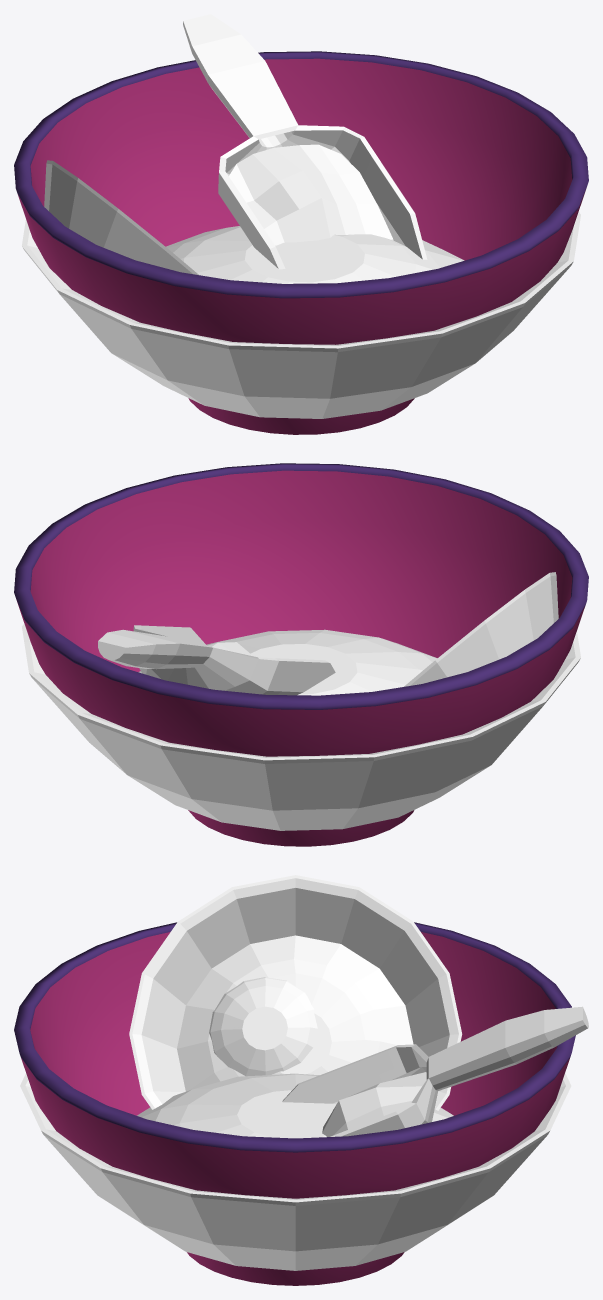
File: Mixing Bowl.fbx
3 views of the same model, one above another, from view 1: azimuth 30°, elevation 25°; view 2: azimuth 150°, elevation 25°; view 3: azimuth 270°, elevation 25° (orthographic). The views are drawn at different scales.
Parts seen in each view (by area): view 1: MixingBowl, Cylinder, Cube, Cube_001, Cylinder_001, Cylinder_1; view 2: MixingBowl, Cylinder, Cube, Cylinder_001, Cylinder_1; view 3: MixingBowl, Cylinder, Cylinder_1, Cylinder_001_1, Cube, Cylinder_001, Cylinder_002, Cube_001.
Boxes of the visible parts, bbox=[...] form: MixingBowl: bbox=[14, 51, 588, 434]; Cylinder: bbox=[22, 212, 580, 418]; Cube: bbox=[183, 14, 427, 269]; Cube_001: bbox=[229, 144, 393, 245]; Cylinder_001: bbox=[166, 226, 464, 283]; Cylinder_1: bbox=[44, 160, 198, 274]; MixingBowl: bbox=[14, 463, 588, 846]; Cylinder: bbox=[22, 623, 580, 830]; Cube: bbox=[98, 625, 335, 695]; Cylinder_001: bbox=[138, 629, 437, 695]; Cylinder_1: bbox=[404, 572, 558, 686]; MixingBowl: bbox=[14, 922, 575, 1285]; Cylinder: bbox=[20, 1073, 571, 1270]; Cylinder_1: bbox=[129, 875, 462, 1110]; Cylinder_001_1: bbox=[177, 935, 413, 1091]; Cube: bbox=[282, 1006, 588, 1136]; Cylinder_001: bbox=[137, 1073, 453, 1138]; Cylinder_002: bbox=[209, 977, 317, 1076]; Cube_001: bbox=[322, 1067, 426, 1136].
Bounding box in the file's own units: 72.76 × 37.31 × 74.27.
